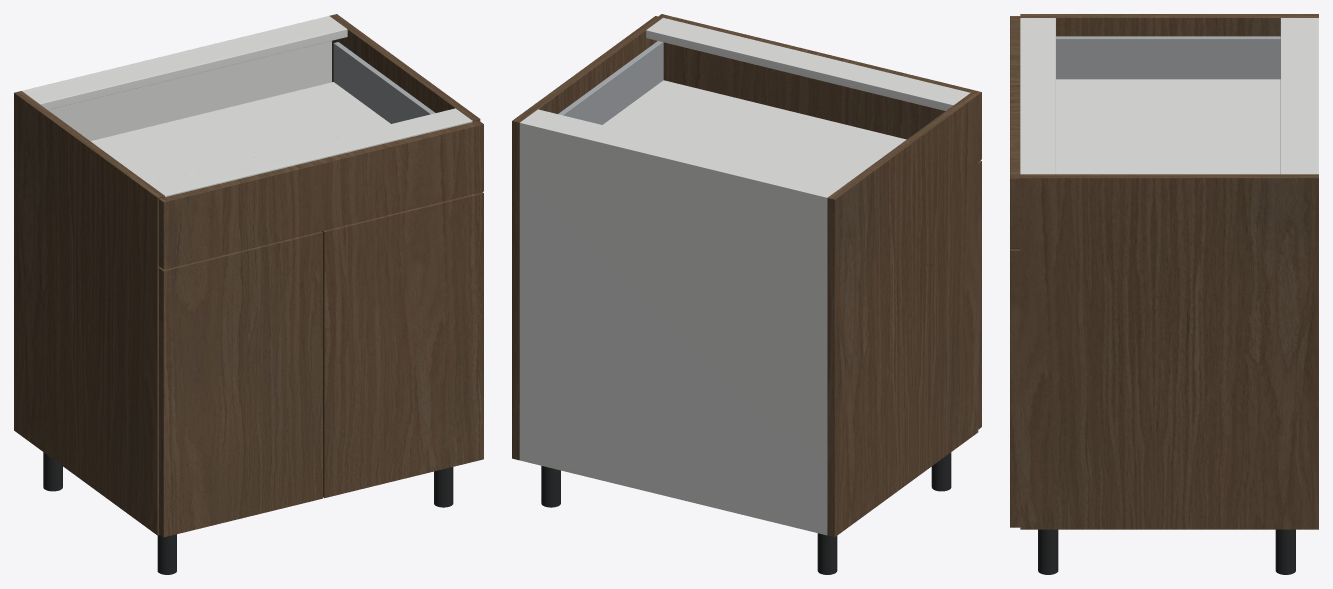
Rendered from oppein-pb-mso-b30.glb.
The picture shows the model from 3 angles, left to right: view 1: azimuth 30°, elevation 25°; view 2: azimuth 150°, elevation 25°; view 3: azimuth 270°, elevation 25°; orthographic projection. The views are drawn at different scales.
Visible parts, largest first — view 1: Cabinet side, Door, Door.001, Drawer front, Drawer floor, Cabinet back, Top support rail, Top support rail.001, Drawer side.001, Cabinet side.001, Adjustable foot.001, Adjustable foot.003 (+1 smaller); view 2: Cabinet back, Cabinet side, Drawer floor, Drawer front, Top support rail.001, Cabinet side.001, Top support rail, Drawer side.001, Cabinet bottom, Door, Adjustable foot, Adjustable foot.002 (+1 smaller); view 3: Cabinet side.001, Drawer floor, Drawer side, Top support rail.001, Cabinet side, Top support rail, Door.001, Drawer front, Adjustable foot.003, Adjustable foot.002, Cabinet back.
Boxes of the visible parts, left/top/right/bottom form: Cabinet side: left=14, top=91, right=164, bottom=535; Door: left=159, top=231, right=322, bottom=537; Door.001: left=322, top=192, right=483, bottom=498; Drawer front: left=159, top=120, right=483, bottom=269; Drawer floor: left=90, top=82, right=390, bottom=183; Cabinet back: left=22, top=16, right=331, bottom=140; Top support rail: left=23, top=18, right=347, bottom=109; Top support rail.001: left=148, top=108, right=472, bottom=197; Drawer side.001: left=333, top=42, right=435, bottom=123; Cabinet side.001: left=329, top=14, right=480, bottom=121; Adjustable foot.001: left=157, top=534, right=176, bottom=574; Adjustable foot.003: left=434, top=467, right=453, bottom=507; Cabinet back: left=519, top=120, right=829, bottom=535; Cabinet side: left=827, top=93, right=978, bottom=537; Drawer floor: left=603, top=80, right=906, bottom=184; Drawer front: left=658, top=14, right=981, bottom=161; Top support rail.001: left=646, top=18, right=970, bottom=110; Cabinet side.001: left=512, top=16, right=662, bottom=460; Top support rail: left=523, top=109, right=844, bottom=195; Drawer side.001: left=558, top=41, right=663, bottom=124; Cabinet bottom: left=520, top=453, right=826, bottom=534; Door: left=978, top=160, right=981, bottom=429; Adjustable foot: left=817, top=533, right=837, bottom=574; Adjustable foot.002: left=541, top=466, right=560, bottom=507; Cabinet side.001: left=1020, top=174, right=1318, bottom=529; Drawer floor: left=1056, top=79, right=1280, bottom=174; Drawer side: left=1056, top=36, right=1280, bottom=79; Top support rail.001: left=1020, top=18, right=1055, bottom=174; Cabinet side: left=1020, top=14, right=1318, bottom=36; Top support rail: left=1280, top=18, right=1315, bottom=174; Door.001: left=1010, top=249, right=1020, bottom=527; Drawer front: left=1010, top=16, right=1020, bottom=248; Adjustable foot.003: left=1038, top=529, right=1058, bottom=574; Adjustable foot.002: left=1275, top=529, right=1295, bottom=574; Cabinet back: left=1313, top=18, right=1318, bottom=174.
Size of the model in its own units: 0.762 by 0.8763 by 0.6064.
4 materials, 1 textured.
